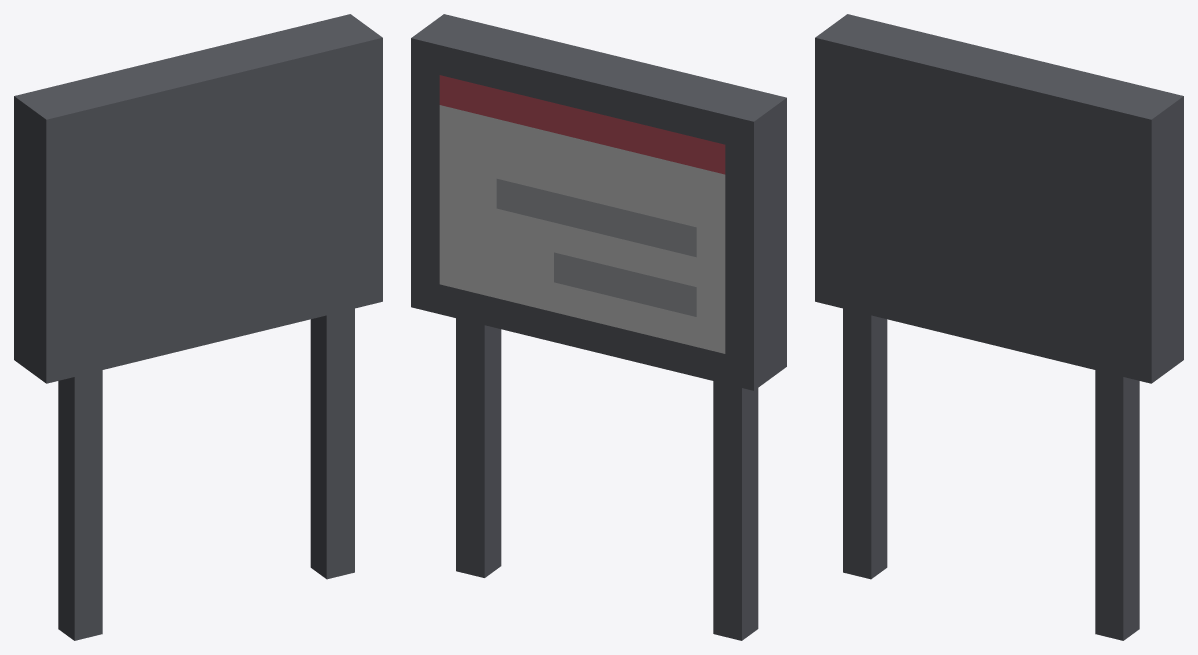
Rendered from panneau.glb.
The picture shows the model from 3 angles, left to right: view 1: azimuth 30°, elevation 25°; view 2: azimuth 150°, elevation 25°; view 3: azimuth 330°, elevation 25°; orthographic projection.
Visible parts, largest first — view 1: main; view 2: main; view 3: main.
Part boxes in pixels (x1,y1,x2,y2): main: (14, 14, 382, 640); main: (411, 14, 786, 640); main: (815, 14, 1183, 640).
Size of the model in its own units: 1.5 by 2.25 by 0.25.
